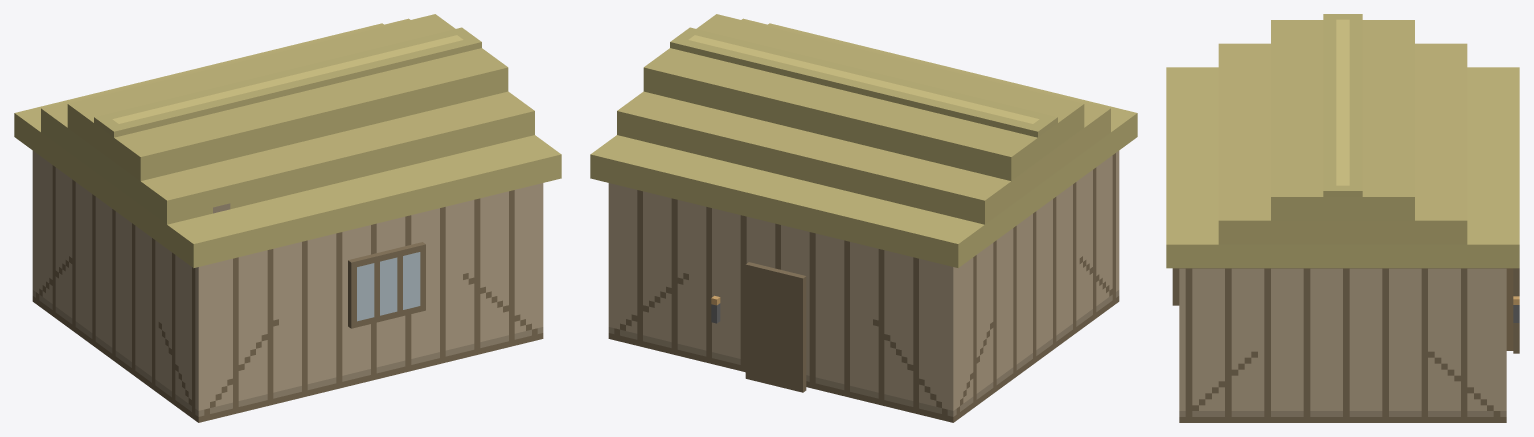
File: choza_pescador_03.glb
3 renders of one model, left to right at view 1: azimuth 30°, elevation 25°; view 2: azimuth 150°, elevation 25°; view 3: azimuth 270°, elevation 25°, orthographic.
Visible parts, largest first — view 1: choza_pescador_03; view 2: choza_pescador_03; view 3: choza_pescador_03.
Part boxes in pixels (<box>): choza_pescador_03: <box>14,14,561,422</box>; choza_pescador_03: <box>590,14,1137,422</box>; choza_pescador_03: <box>1166,14,1519,422</box>.
Size of the model in its own units: 6.4 by 4 by 5.4.
